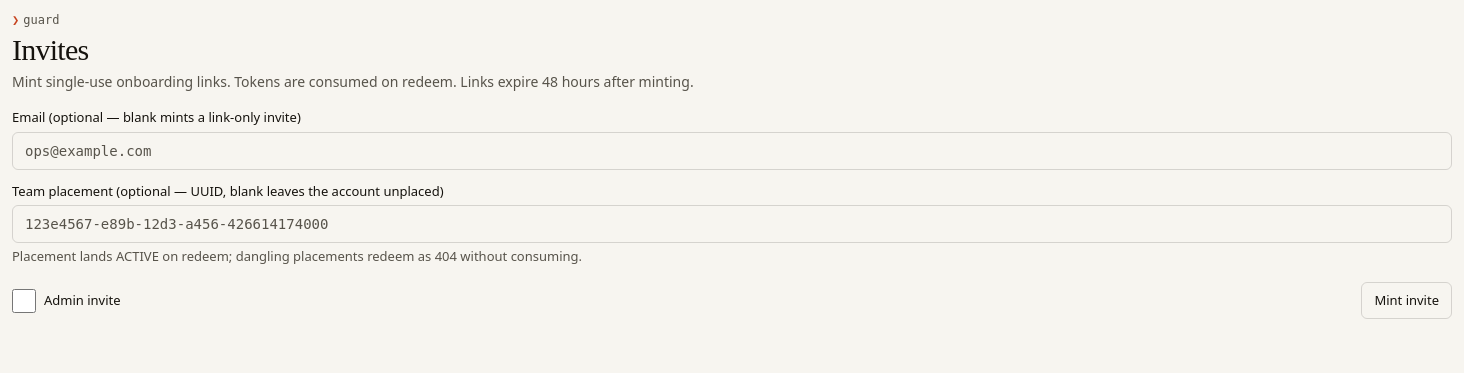
Test: InvitesPage › reports mint failures honestly
The image size is (1464, 373).
Click the button "Mint invite" at {"x": 1407, "y": 301}, box [1361, 282, 1452, 319]
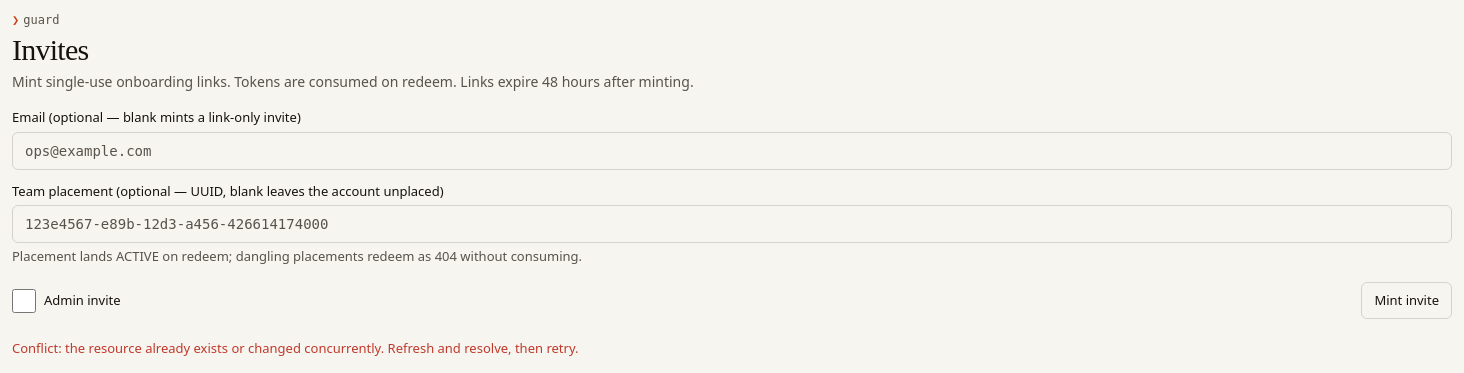
expect the message shows "Conflict": met, box [12, 338, 578, 356]
